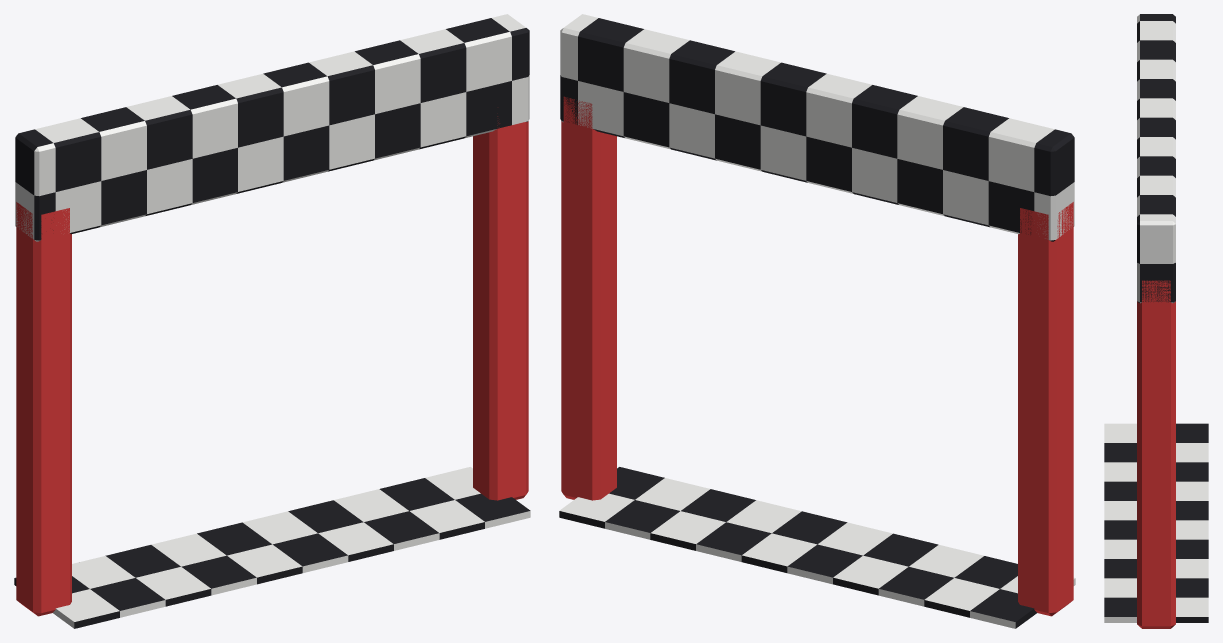
Rendered from FinishLine.fbx.
The picture shows the model from 3 angles, left to right: view 1: azimuth 30°, elevation 25°; view 2: azimuth 150°, elevation 25°; view 3: azimuth 270°, elevation 25°; orthographic projection. The views are drawn at different scales.
Parts seen in each view (by area): view 1: FinishLine; view 2: FinishLine; view 3: FinishLine.
Part boxes in pixels (x1,y1,x2,y2): FinishLine: (14, 14, 530, 628); FinishLine: (559, 14, 1075, 628); FinishLine: (1104, 14, 1208, 628).
Size of the model in its own units: 7.6 by 6.9 by 1.6.
Materials: 1 (1 with a texture image).
